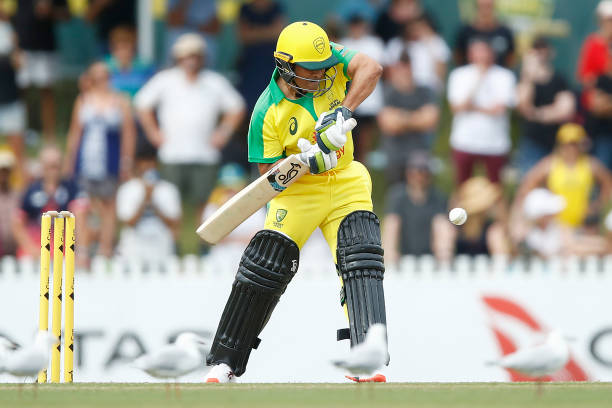bottom left: (187, 224, 208, 241)
bottom right: (205, 236, 224, 255)
top left: (282, 150, 302, 165)
top right: (296, 159, 318, 178)
